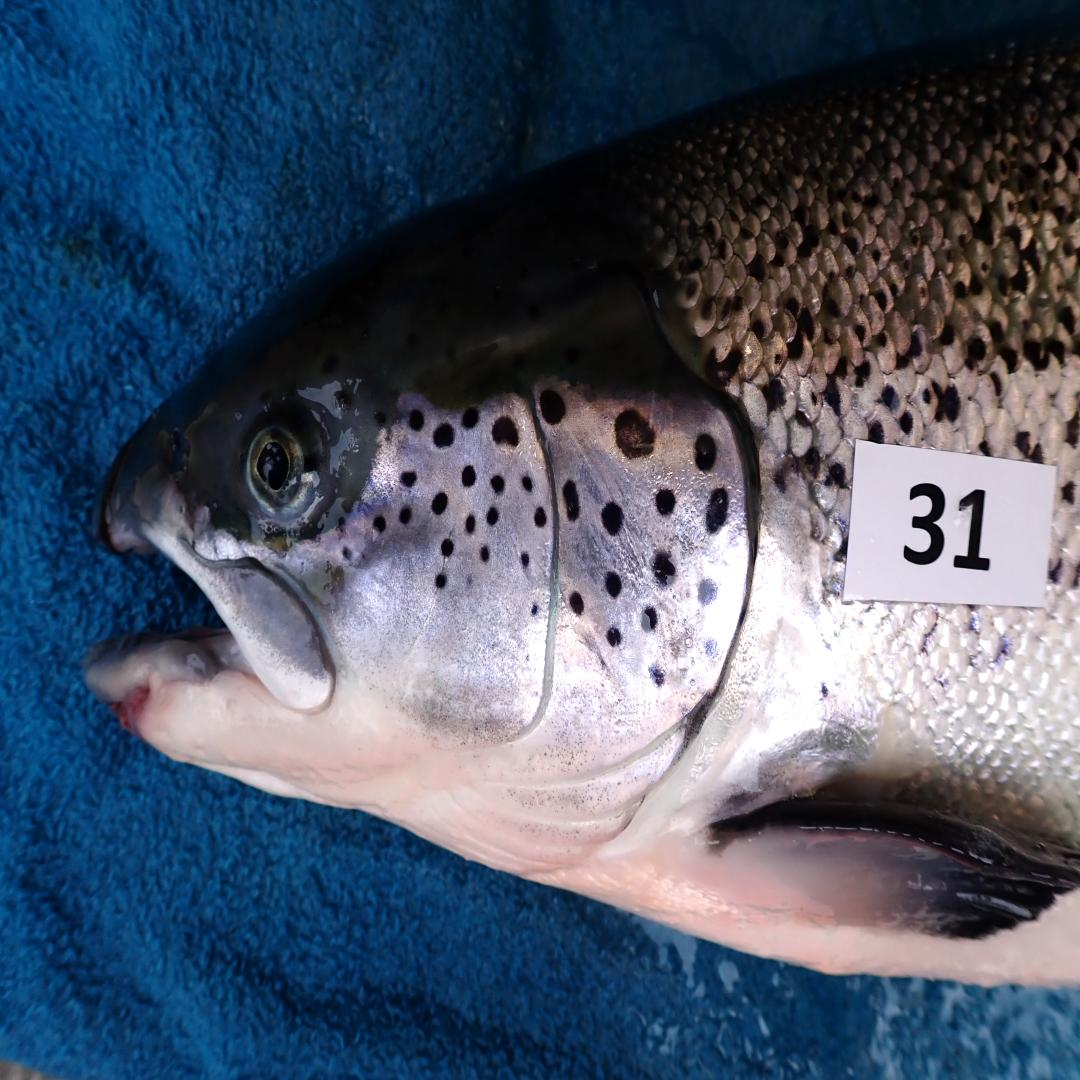roi: (336, 379, 755, 880)
